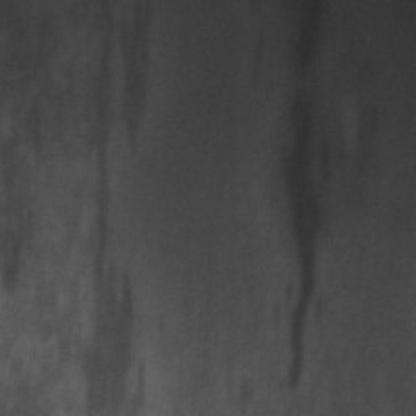inclusion: (79, 0, 152, 410), (272, 0, 346, 387), (0, 70, 56, 300)
